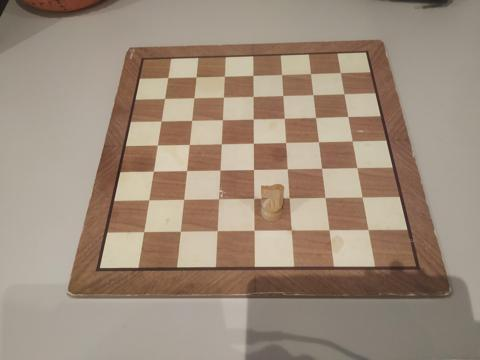xcorner: (137, 228, 147, 238), (174, 228, 184, 238), (211, 227, 221, 237), (248, 226, 258, 236), (286, 226, 296, 236), (324, 225, 334, 235), (142, 196, 152, 206), (177, 196, 187, 206), (212, 195, 222, 205), (248, 194, 258, 204), (284, 193, 294, 203), (321, 193, 331, 203), (357, 192, 367, 202), (147, 167, 157, 177), (214, 166, 224, 176), (248, 165, 258, 175), (282, 164, 292, 174), (317, 163, 327, 173), (352, 162, 362, 172), (151, 141, 161, 151), (183, 140, 193, 150), (215, 139, 225, 149), (248, 138, 258, 148), (281, 137, 291, 147), (314, 136, 324, 146), (348, 135, 358, 145), (155, 116, 165, 126), (185, 115, 195, 125), (248, 113, 258, 123), (279, 112, 289, 122), (311, 111, 321, 121), (158, 94, 168, 104), (188, 93, 198, 103), (218, 92, 228, 102), (278, 89, 288, 99), (309, 88, 319, 98), (340, 87, 350, 97), (190, 72, 200, 82), (219, 71, 229, 81), (277, 68, 287, 78), (306, 67, 316, 77), (336, 66, 346, 76), (363, 225, 373, 234), (180, 167, 190, 176), (217, 114, 226, 124), (344, 110, 353, 120), (248, 91, 258, 100), (162, 73, 171, 83), (248, 70, 258, 79)
